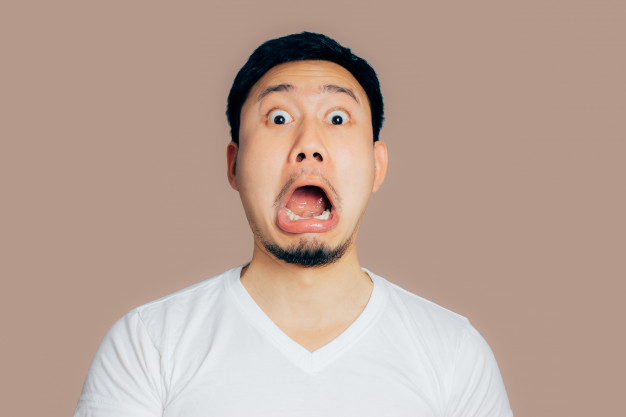surprise: (230, 60, 377, 260)
